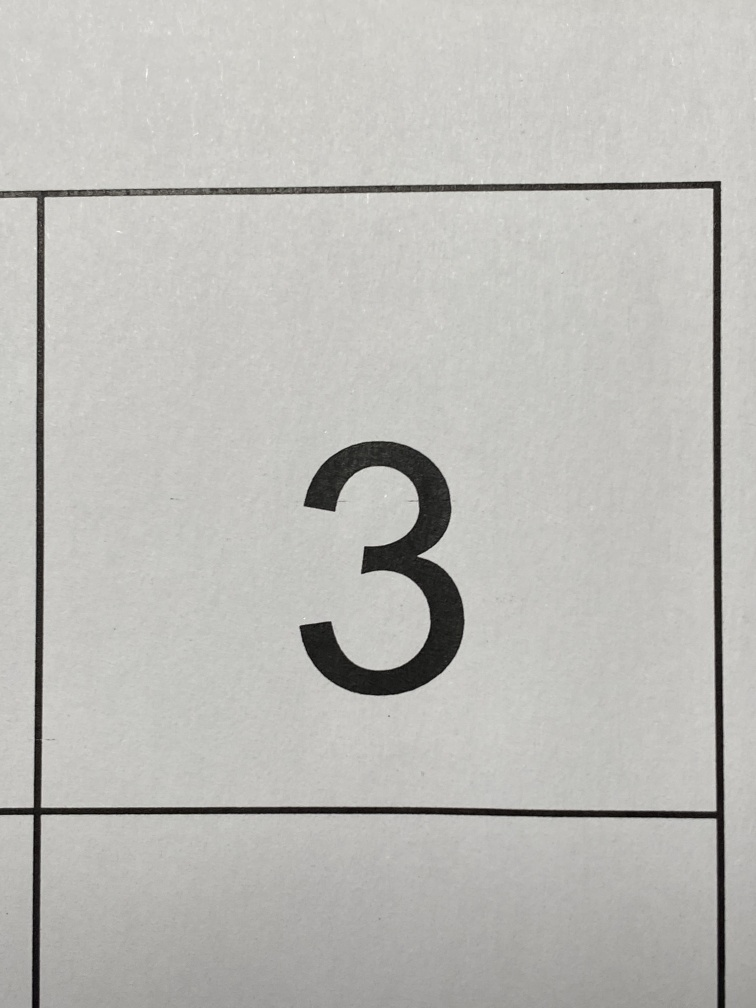three: (246, 389, 522, 752)
